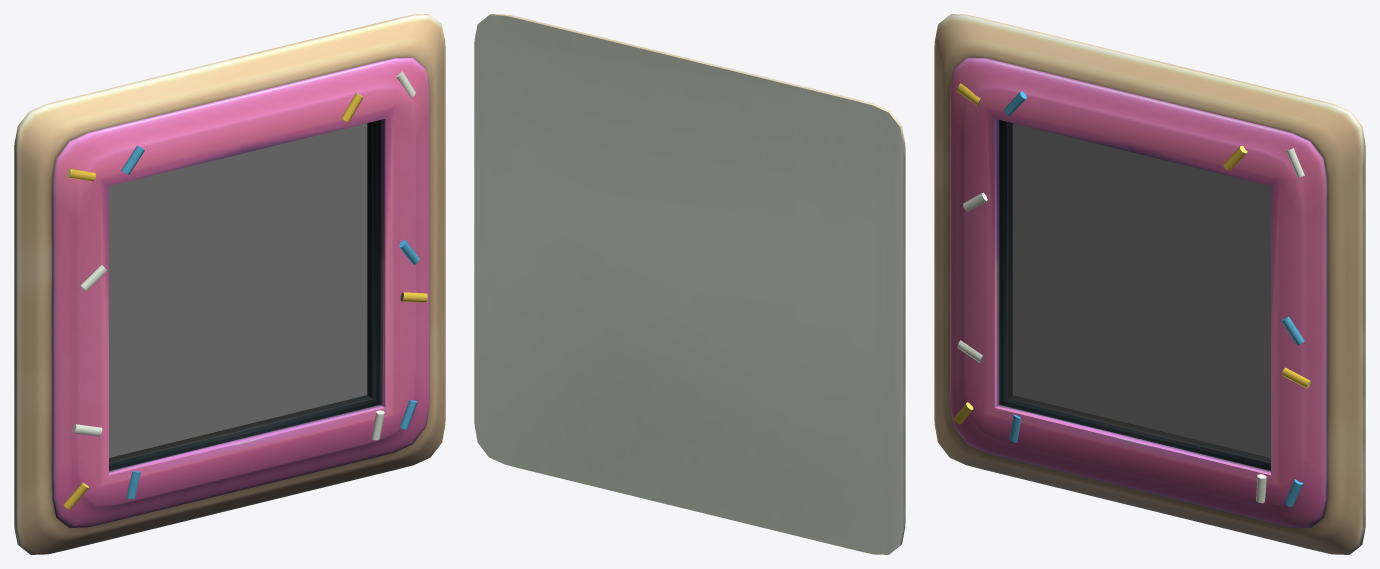
Rendered from DonutPainting.fbx.
3 views of the same model, side by side, from view 1: azimuth 30°, elevation 25°; view 2: azimuth 150°, elevation 25°; view 3: azimuth 330°, elevation 25° (orthographic).
Visible parts, largest first — view 1: Frame, Picture; view 2: Frame; view 3: Frame, Picture.
Boxes of the visible parts, box(x1,y1,x2,y2) form: Frame: box(14, 14, 445, 554); Picture: box(109, 123, 367, 457); Frame: box(474, 14, 905, 554); Frame: box(934, 14, 1365, 554); Picture: box(1012, 123, 1270, 457).
Bounding box in the file's own units: 155 × 155 × 13.96.
Materials: 3 (1 with a texture image).
